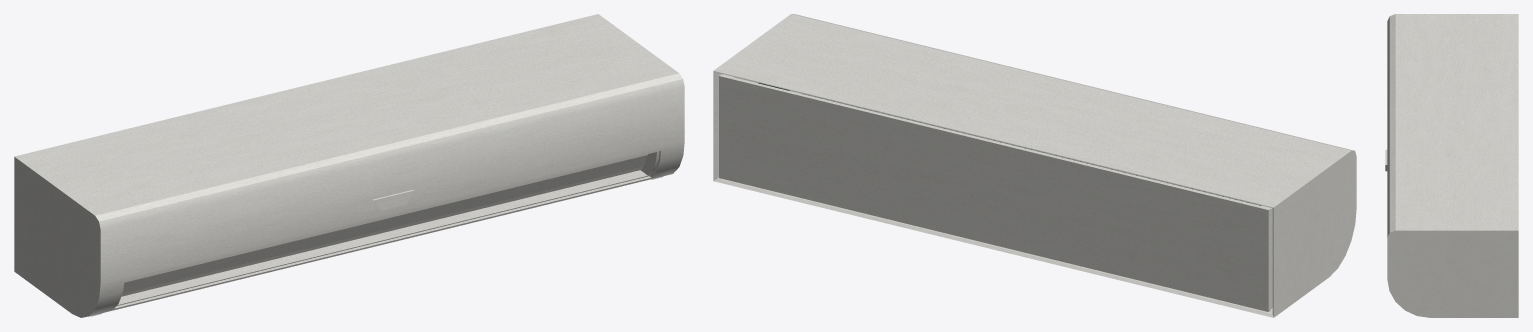
Rendered from 05_aircondition_destructible.glb.
3 renders of one model, left to right at view 1: azimuth 30°, elevation 25°; view 2: azimuth 150°, elevation 25°; view 3: azimuth 270°, elevation 25°, orthographic. The views are drawn at different scales.
Parts seen in each view (by area): view 1: AirConditioner_A; view 2: AirConditioner_A; view 3: AirConditioner_A.
Boxes of the visible parts, <box> form: AirConditioner_A: <box>14,14,684,317</box>; AirConditioner_A: <box>713,14,1356,317</box>; AirConditioner_A: <box>1385,14,1518,317</box>.
Bounding box in the file's own units: 1.4 × 0.2628 × 0.3628.
Materials: 4 (4 with a texture image).
